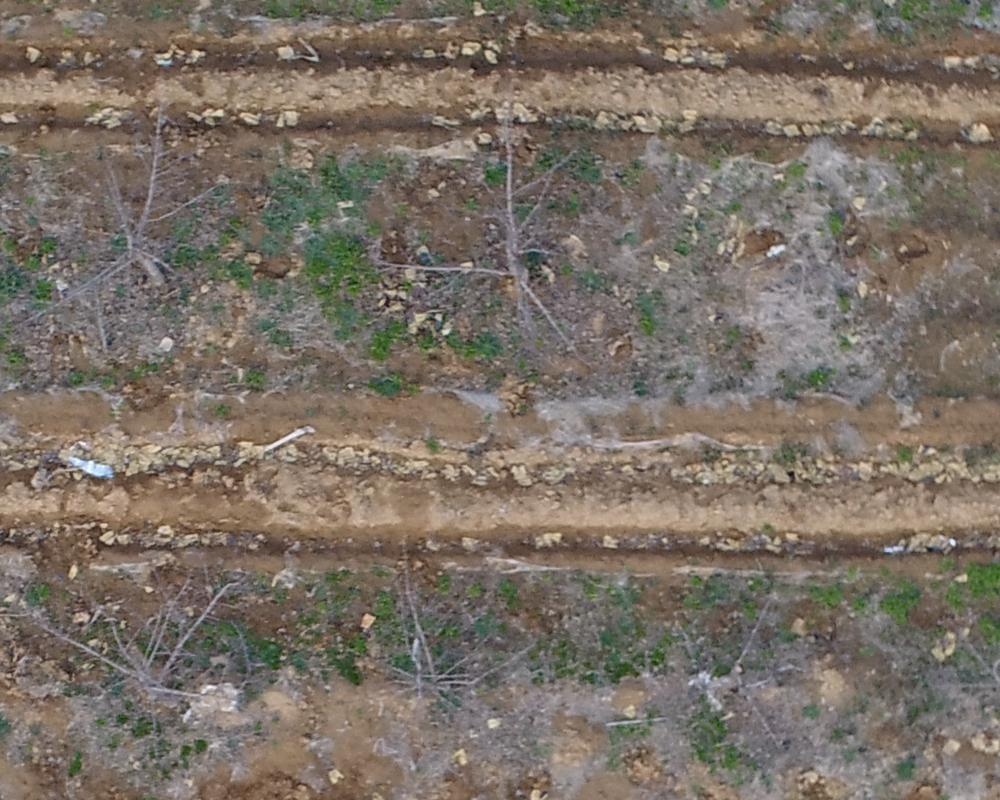apple: (19, 93, 221, 348), (423, 94, 587, 366), (29, 557, 257, 727), (616, 572, 802, 761), (344, 564, 527, 736)
